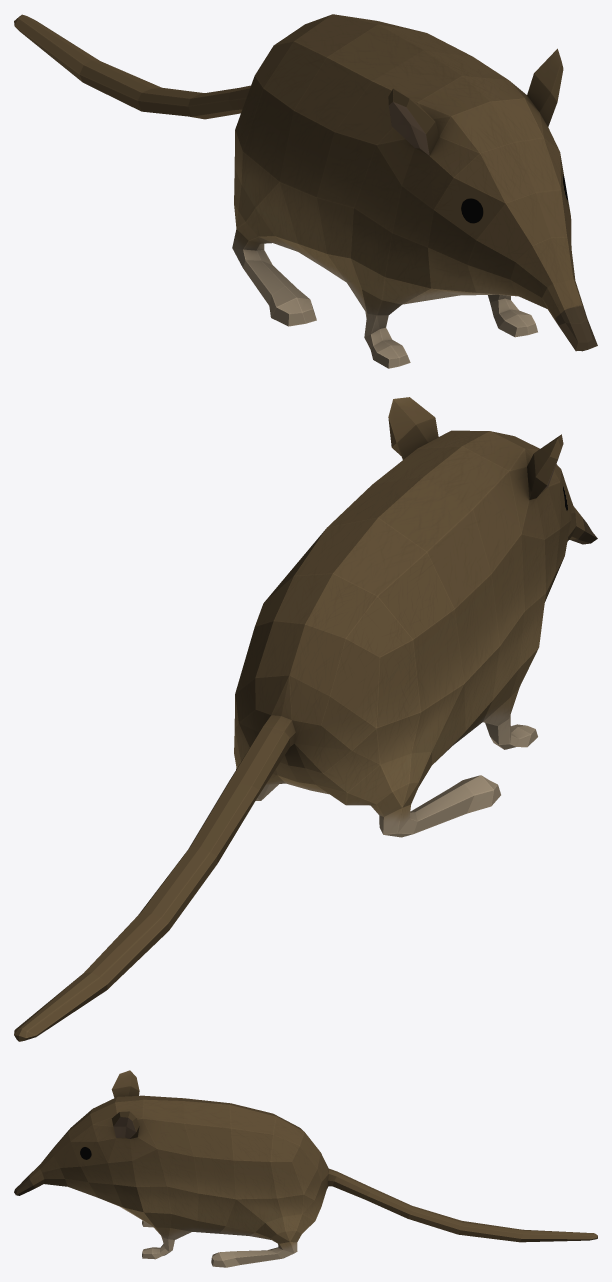
The model's file is DesertShrew.obj.
The picture shows the model from 3 angles, top to bottom: view 1: azimuth 30°, elevation 25°; view 2: azimuth 150°, elevation 25°; view 3: azimuth 270°, elevation 25°; orthographic projection. The views are drawn at different scales.
Visible parts, largest first — view 1: DesertShrew_Mesh; view 2: DesertShrew_Mesh; view 3: DesertShrew_Mesh.
Boxes of the visible parts, bbox=[...] form: DesertShrew_Mesh: bbox=[14, 14, 597, 368]; DesertShrew_Mesh: bbox=[14, 397, 597, 1041]; DesertShrew_Mesh: bbox=[14, 1070, 597, 1267].
Bounding box in the file's own units: 0.8207 × 1.04 × 3.67.
1 material, 1 textured.
